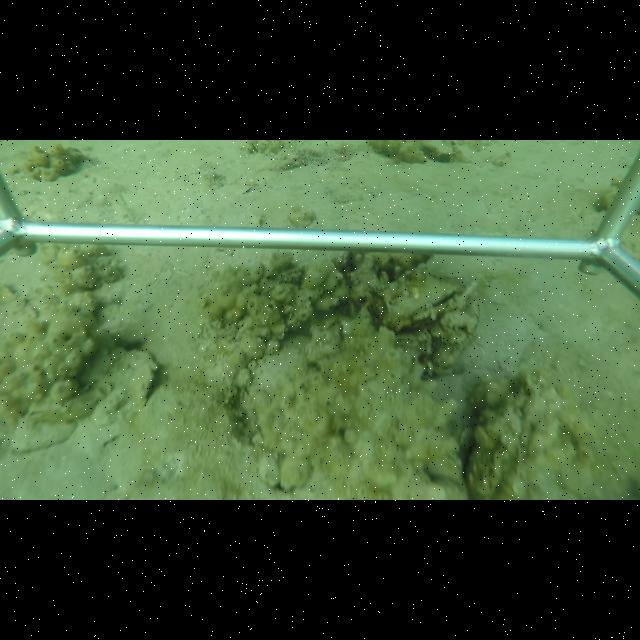Oyster-Closed: (77, 351, 160, 454), (263, 269, 303, 294)
Oyster-Open: (384, 270, 478, 328)
